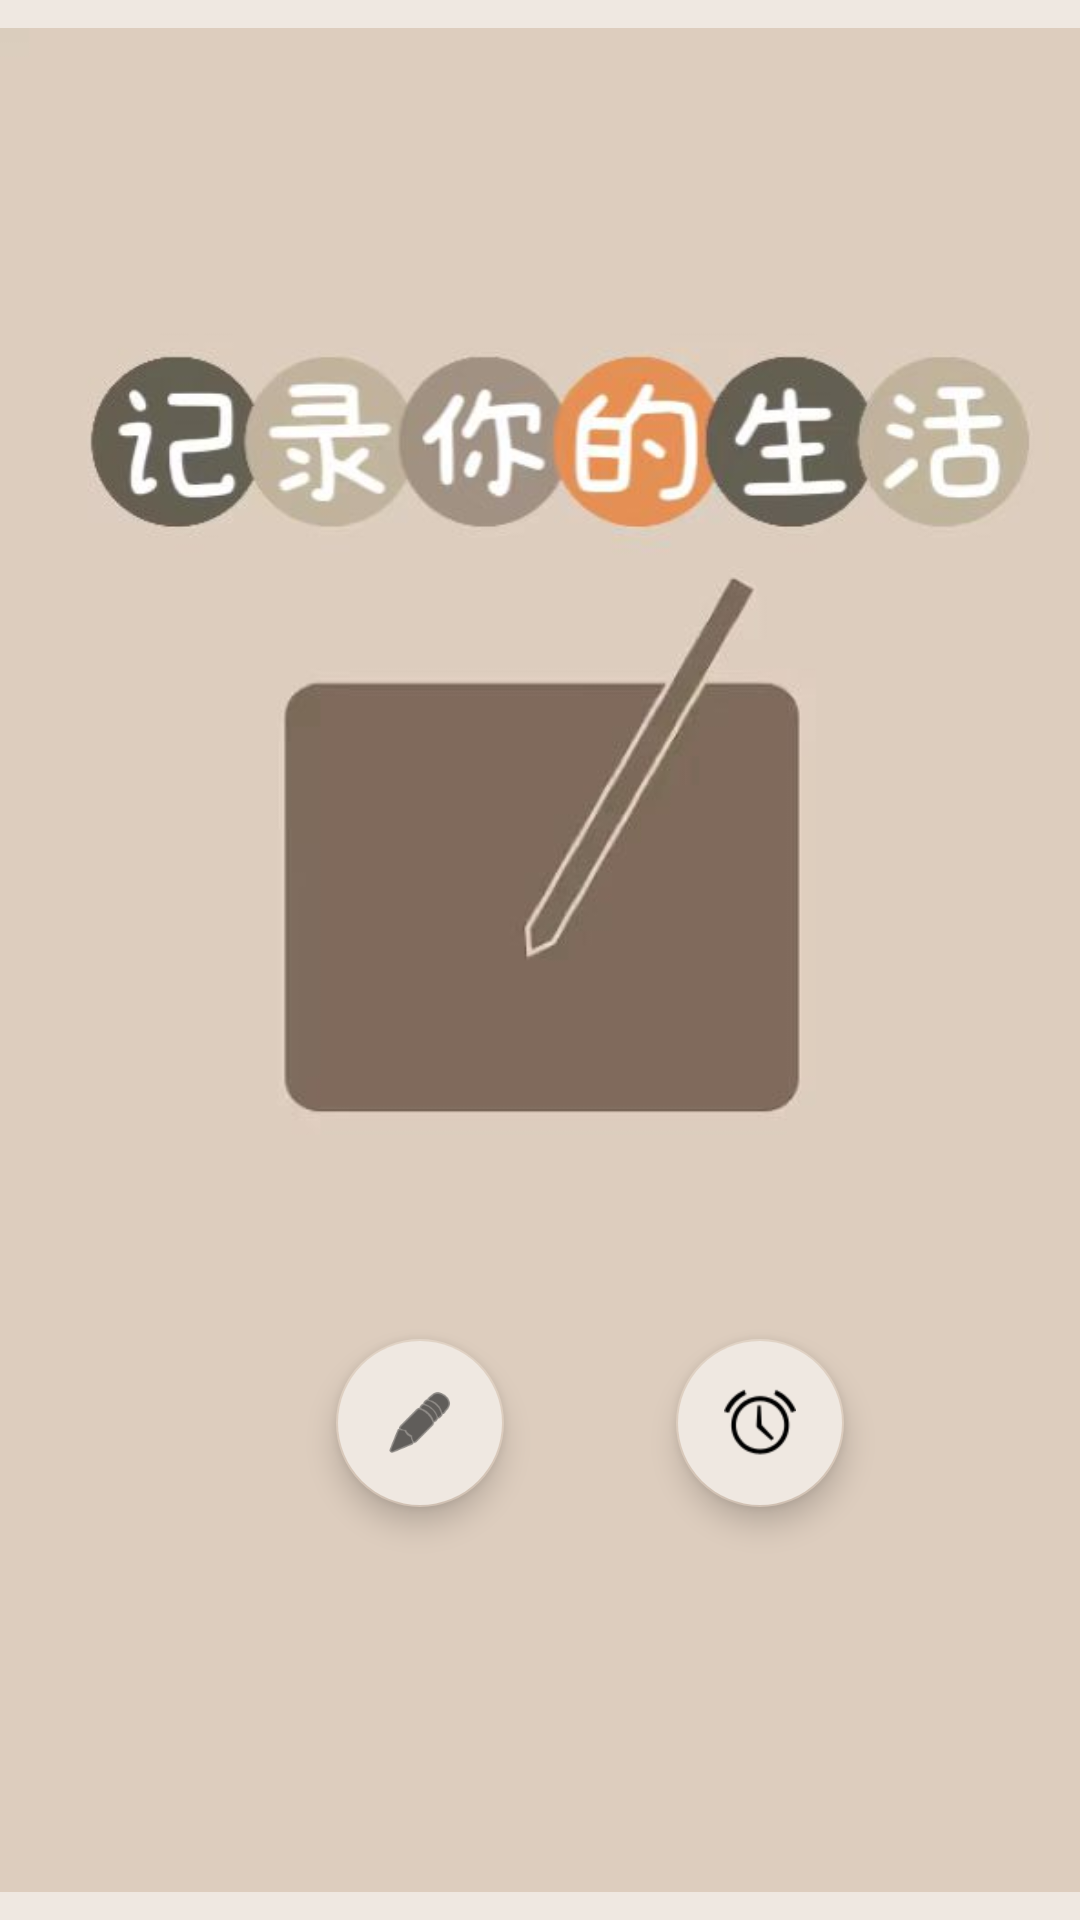

Icons on this 1080*1920 Android screen, each with its box as [x1=x1, y1=y1, x2=x2, y2=y2]:
edit: [x1=338, y1=1341, x2=502, y2=1505]
lock idle alarm: [x1=678, y1=1341, x2=842, y2=1505]
